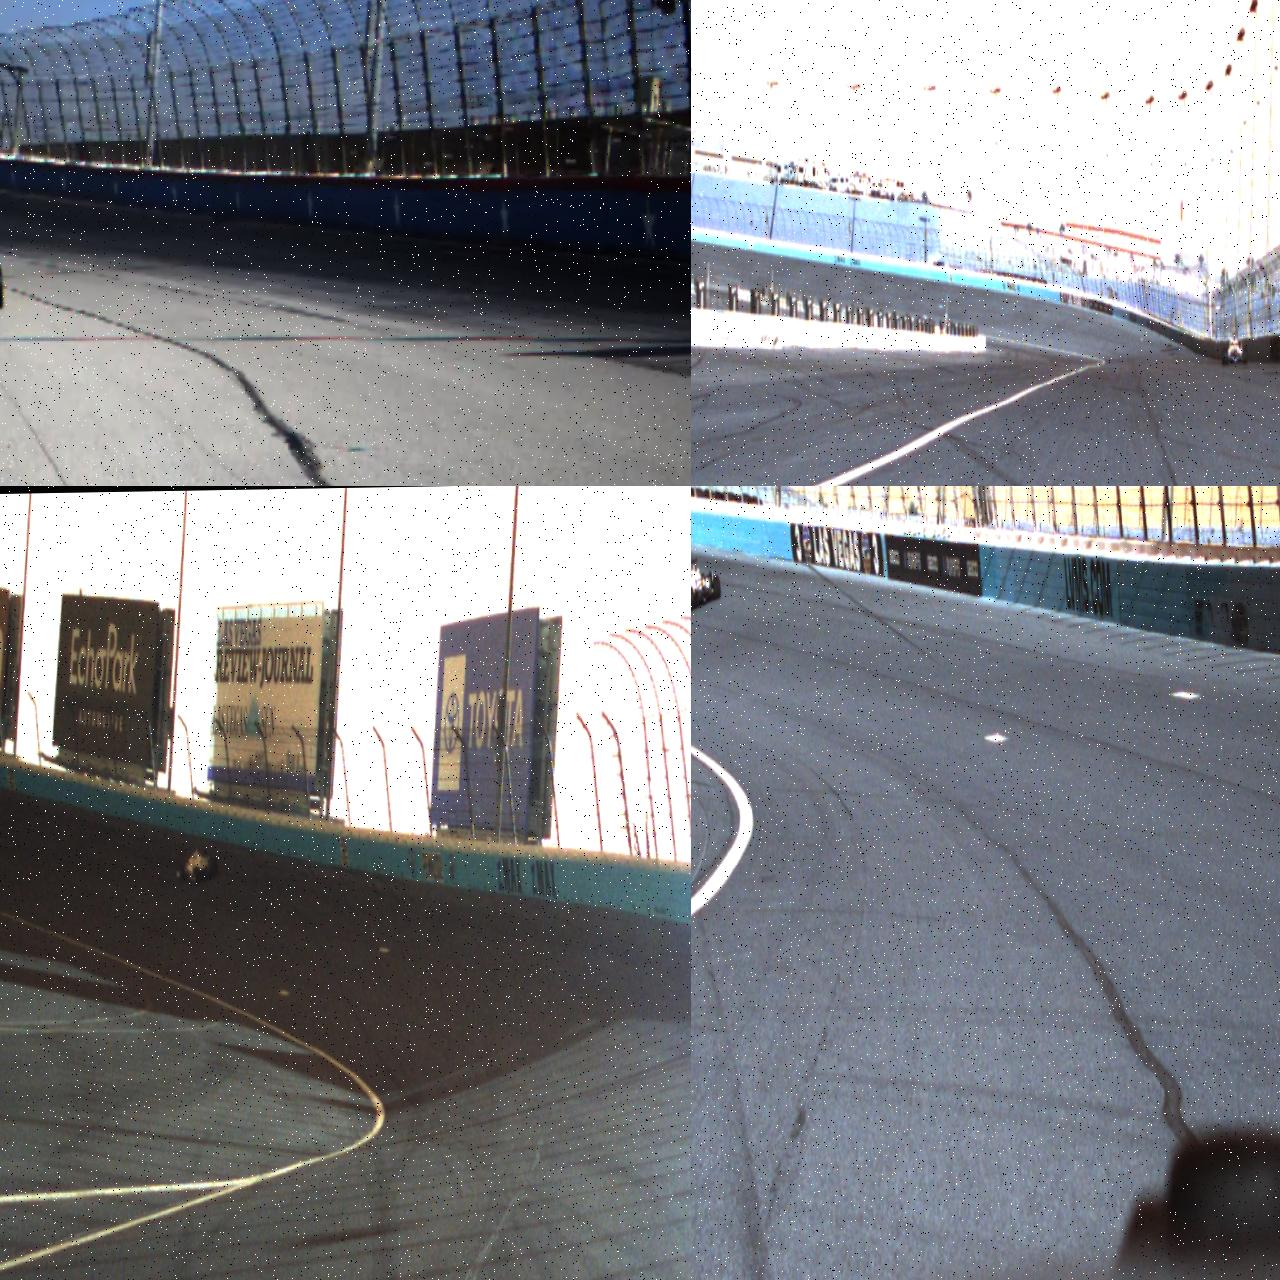AV: (176, 844, 218, 885), (692, 558, 721, 612), (1221, 333, 1248, 365)
Wheel: (712, 576, 721, 599), (192, 866, 200, 884), (211, 856, 218, 874), (1223, 347, 1228, 365), (1242, 347, 1248, 363), (178, 864, 184, 880), (692, 587, 694, 611)
